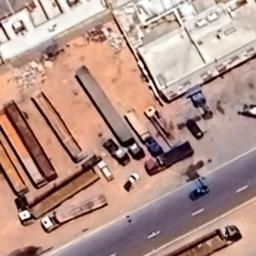sedan: (186, 118, 204, 140), (190, 183, 210, 202)
truck: (72, 64, 146, 160), (2, 98, 62, 182), (19, 166, 98, 226), (0, 110, 52, 194), (30, 90, 88, 164), (40, 192, 108, 234), (164, 225, 248, 256), (122, 107, 164, 160), (144, 141, 196, 181), (0, 136, 31, 202), (144, 104, 180, 147)
unknown: (124, 170, 142, 192)
van: (99, 135, 132, 168), (98, 158, 114, 182)
